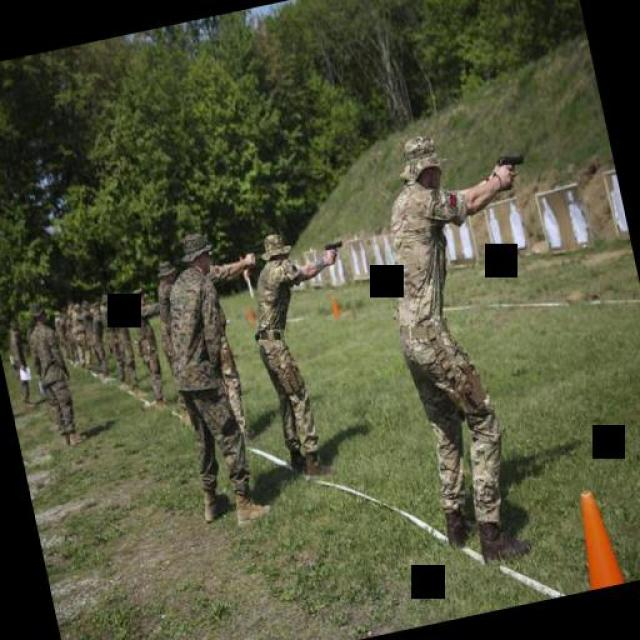gun: (488, 146, 530, 192), (318, 232, 347, 266), (242, 241, 262, 269)
